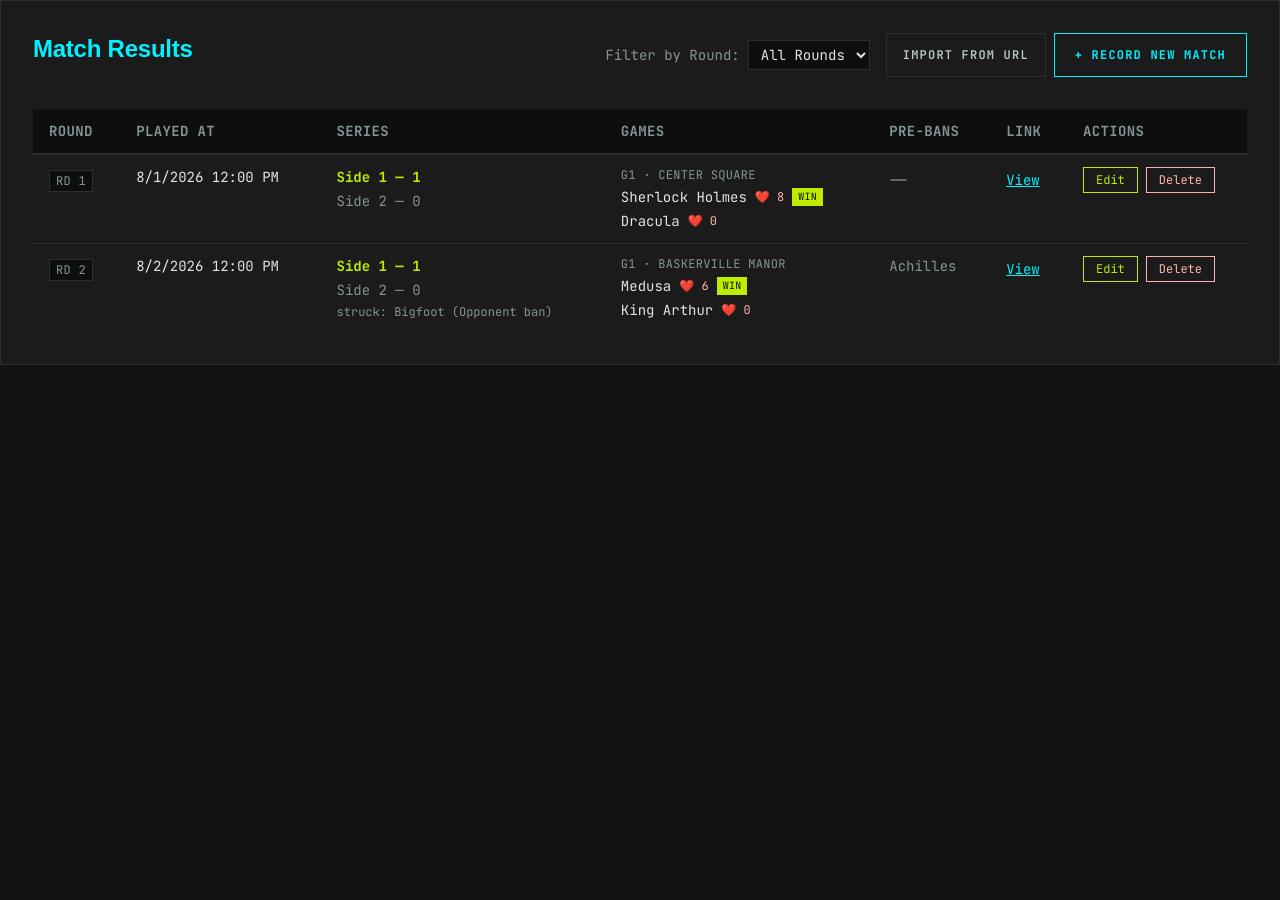
Test: MatchListAdmin › surfaces a rejected delete as an error
Click the button "Delete" in the row of "Rd 1" at (1180,180), box left=1146, top=167, right=1215, bottom=193
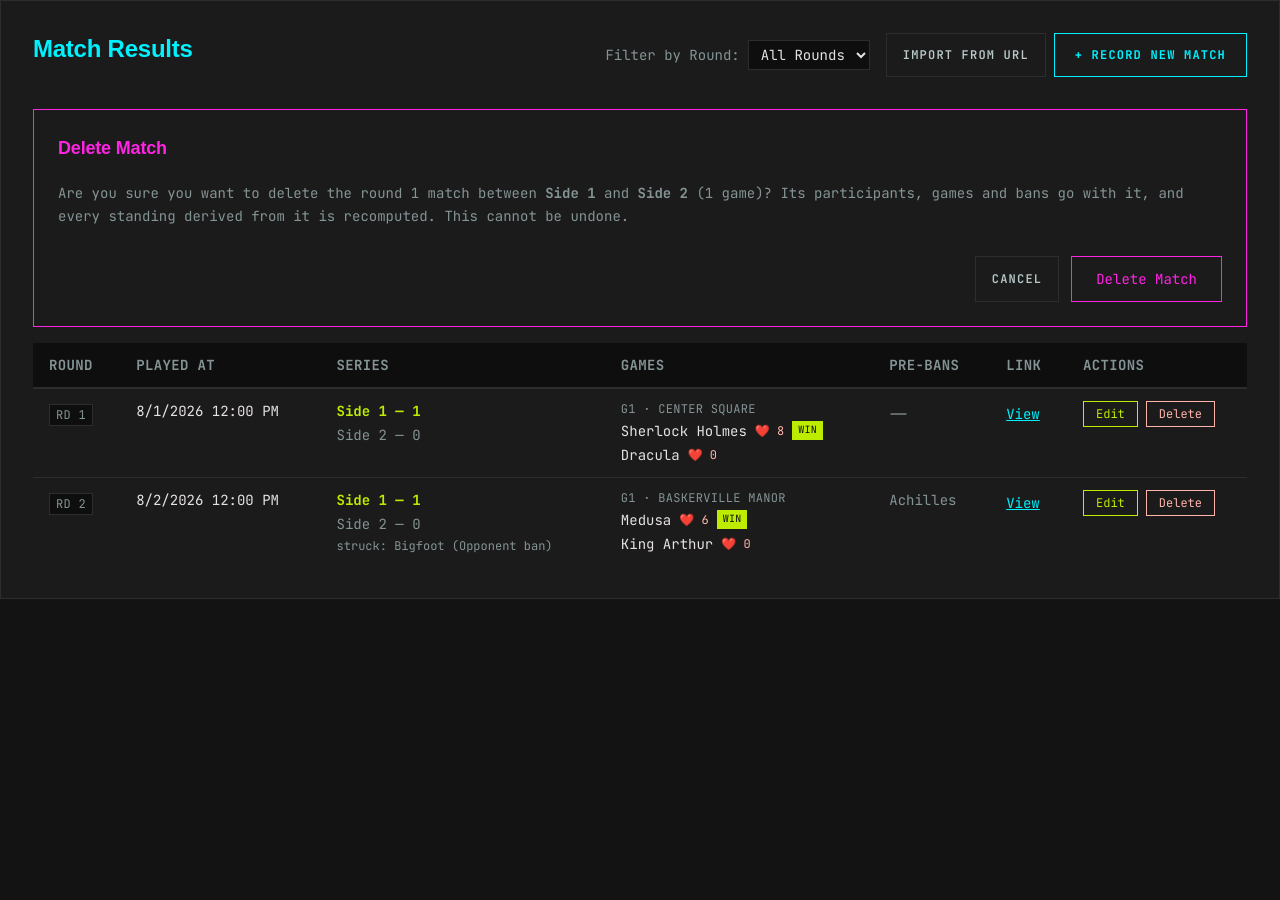
Click the button "Delete Match" at (1147,278), box left=1071, top=256, right=1222, bottom=302
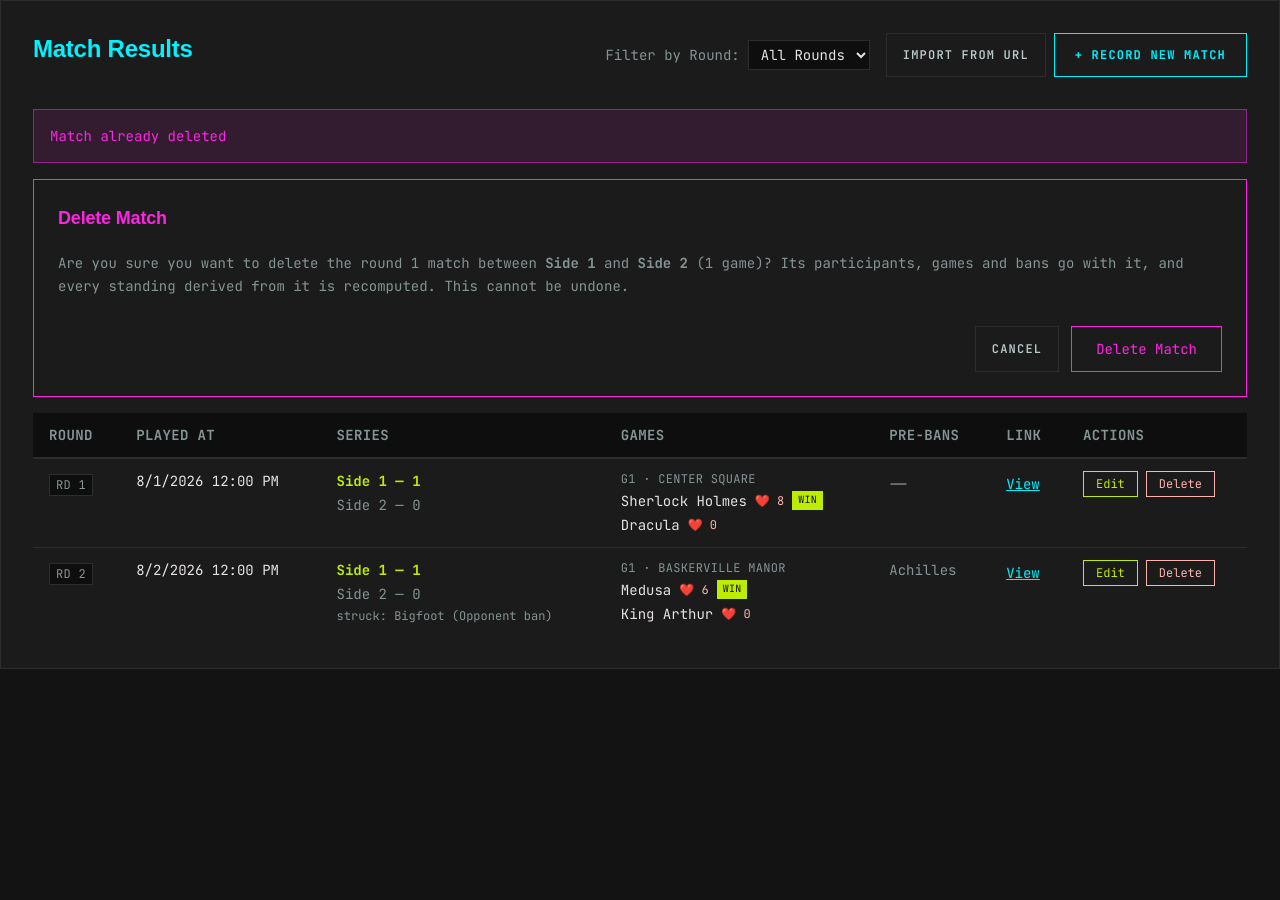
Now the text "Match already deleted" is shown, box left=50, top=127, right=226, bottom=145
